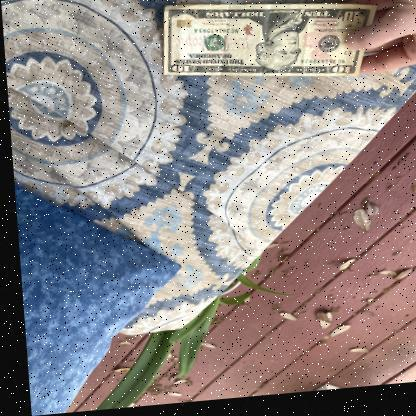ten-front: (161, 7, 376, 82)
